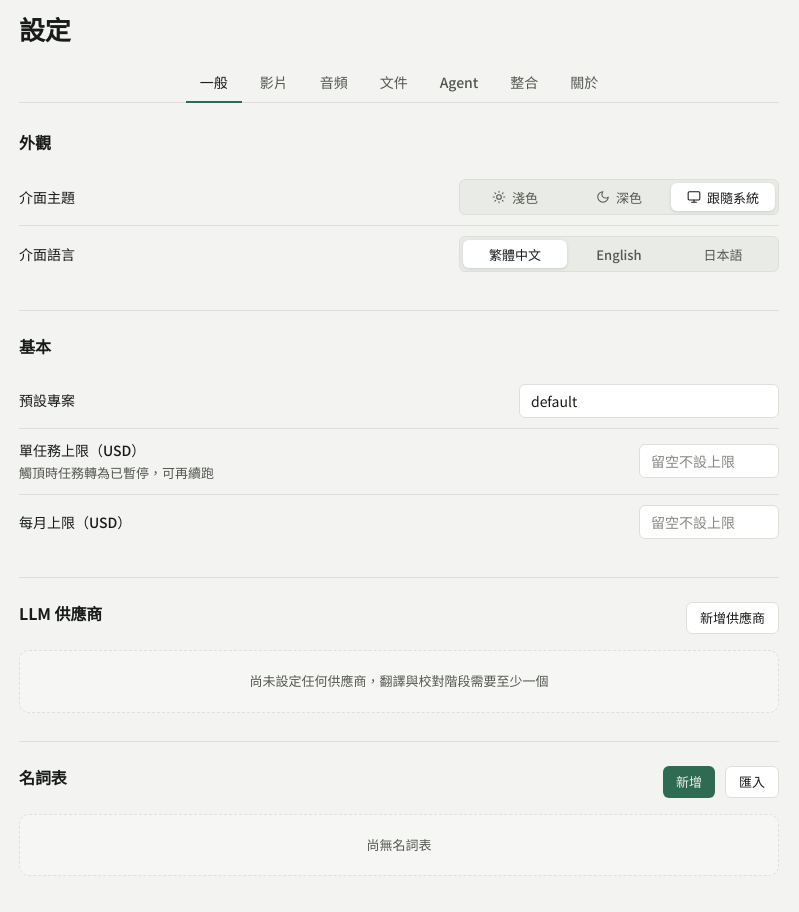
Test case: switching tabs keeps unsaved edits and the save bar
Type "-x" into the field labelled "預設專案" at coordinates (649, 401), box 519,384 -> 779,418
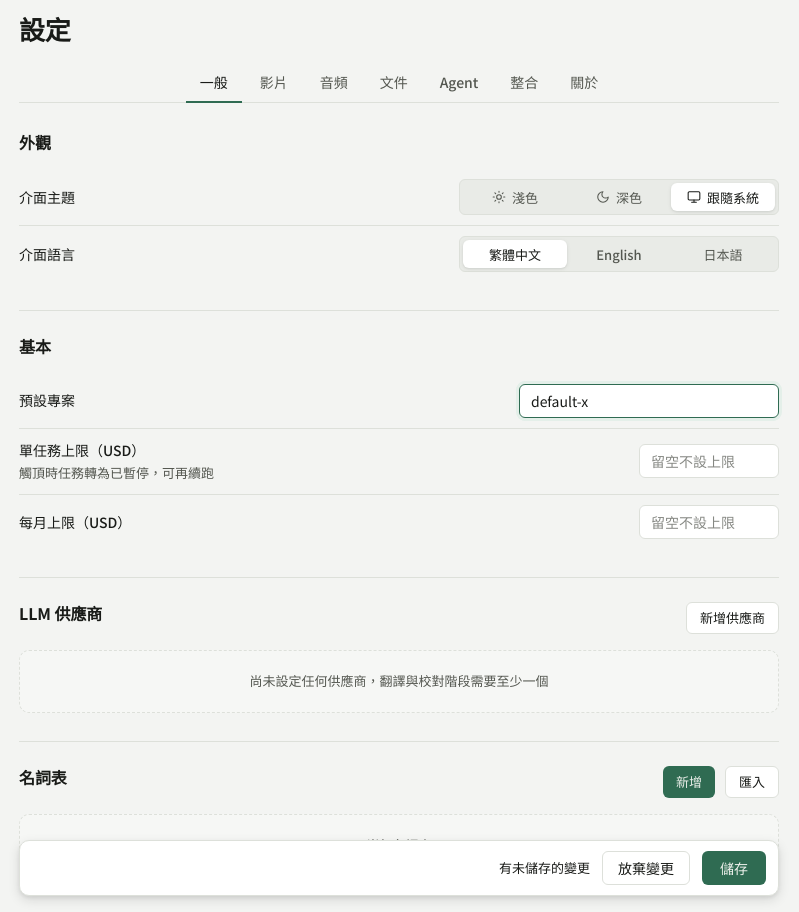
Click the tab "整合" at coordinates (524, 84), box 496,66 -> 552,103
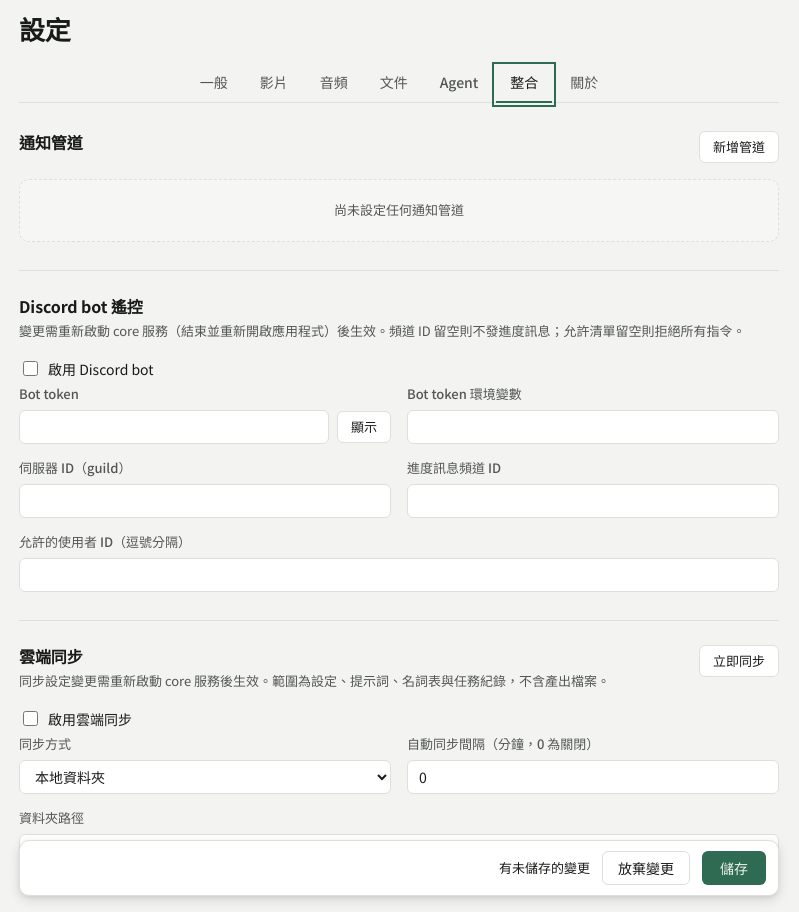
Expected: the text "有未儲存的變更" is shown, 499,858 -> 590,878
Click the tab "一般" at coordinates (214, 84), box 186,66 -> 242,103
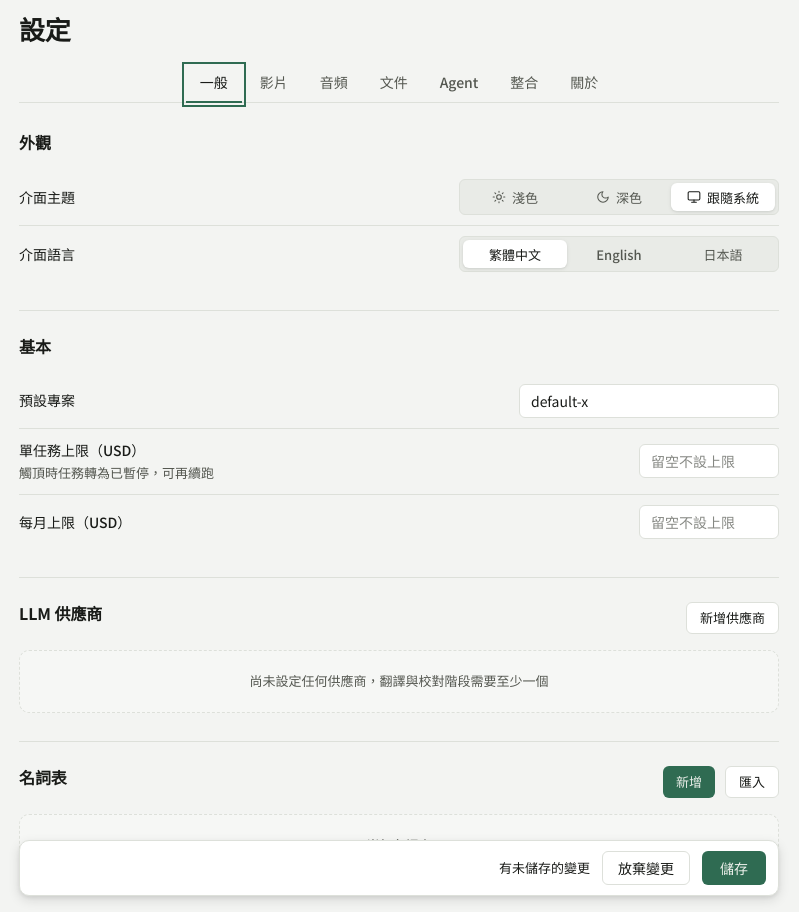
Expected: the field labelled "預設專案" holds "default-x", 519,384 -> 779,418
